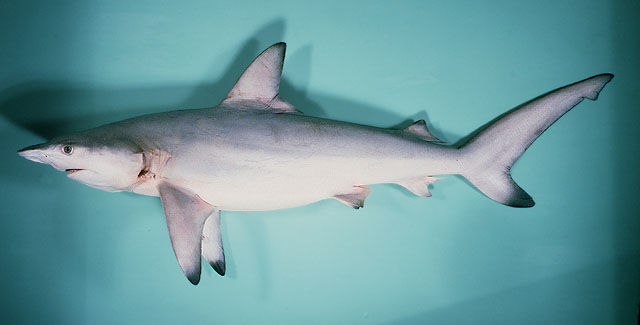fish: (17, 41, 616, 286)
